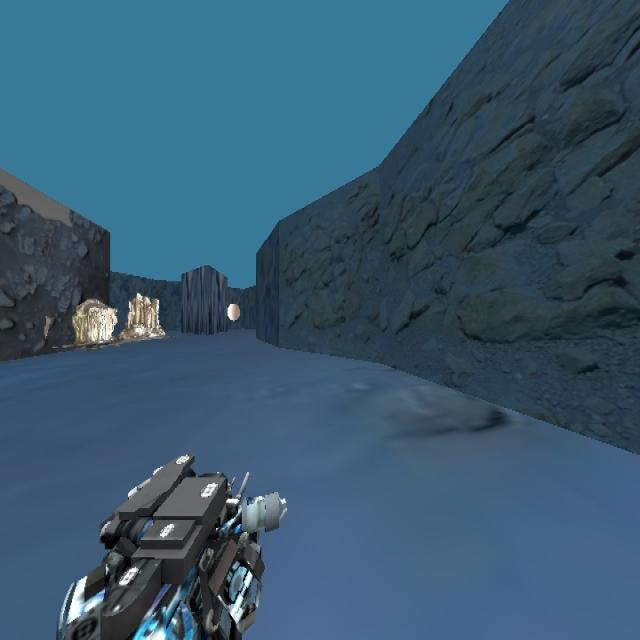Circle: (226, 302, 240, 322)
Ice: (124, 286, 168, 344), (74, 291, 119, 346)
